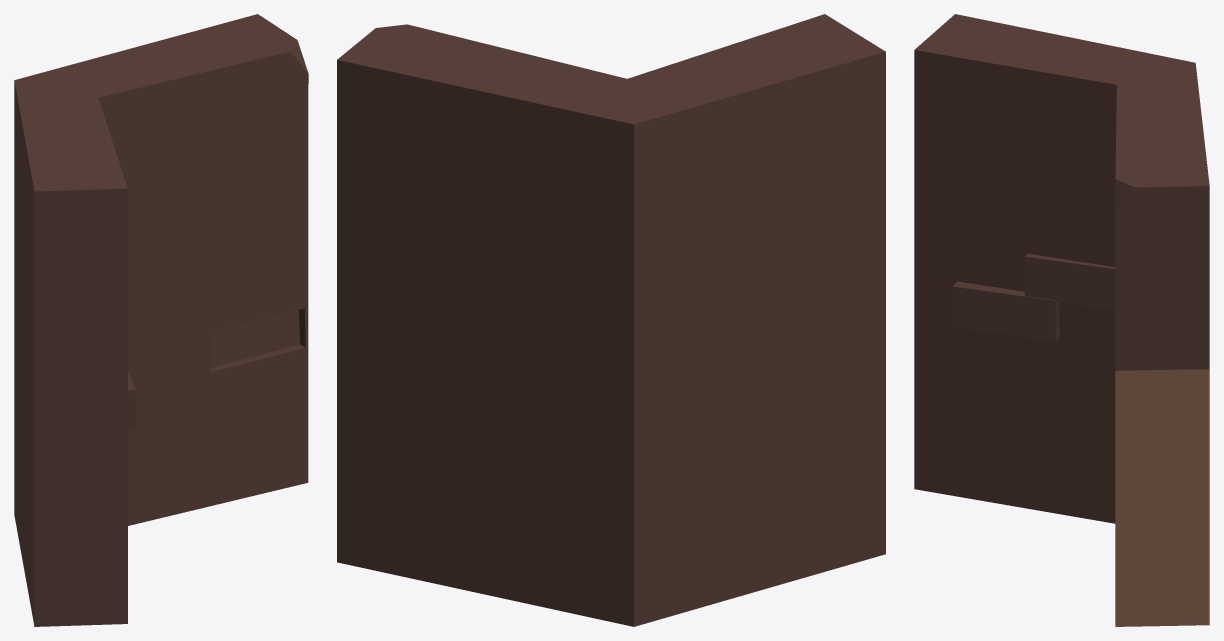
The model's file is WallLightSandStoneCorner1.fbx.
The picture shows the model from 3 angles, left to right: view 1: azimuth 30°, elevation 25°; view 2: azimuth 150°, elevation 25°; view 3: azimuth 270°, elevation 25°; orthographic projection. The views are drawn at different scales.
Visible parts, largest first — view 1: polySurface3; view 2: polySurface3; view 3: polySurface3.
Boxes of the visible parts, x1,y1,x2,y2 form: polySurface3: [14, 14, 308, 626]; polySurface3: [337, 14, 885, 626]; polySurface3: [914, 14, 1209, 626].
Bounding box in the file's own units: 581 × 684 × 417.
